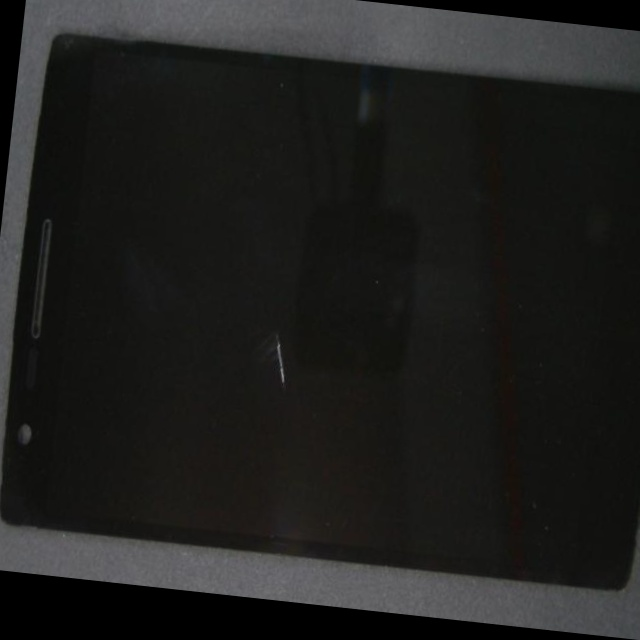scratch: (156, 219, 465, 546)
